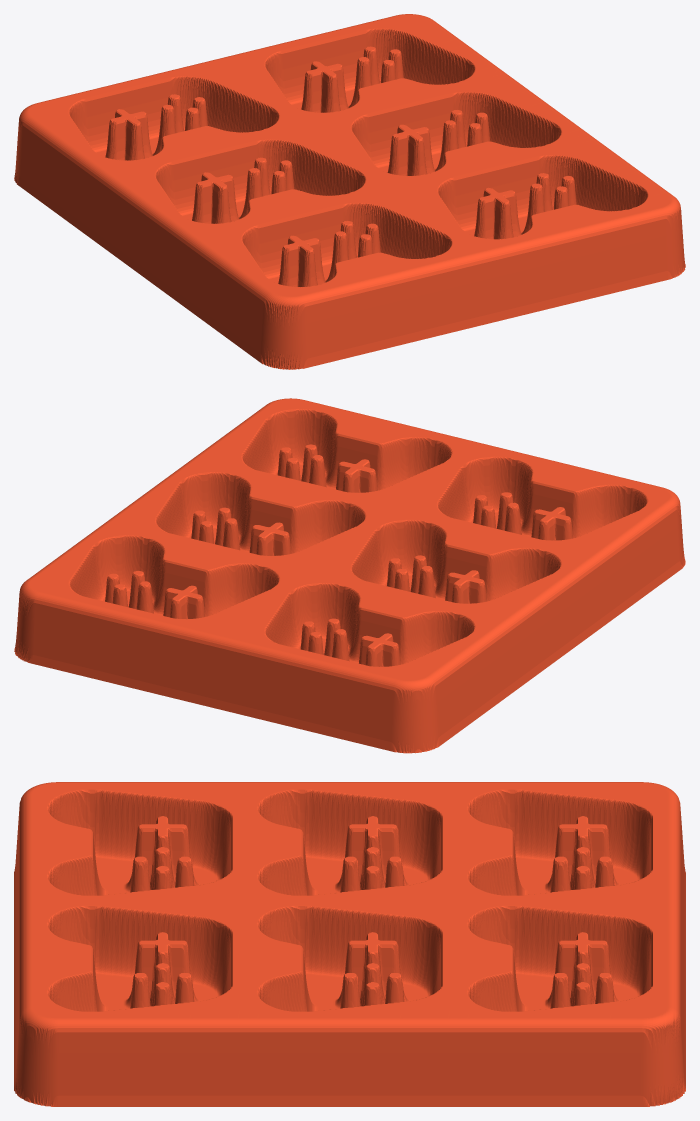
Rendered from mold.glb.
The picture shows the model from 3 angles, top to bottom: view 1: azimuth 30°, elevation 25°; view 2: azimuth 150°, elevation 25°; view 3: azimuth 270°, elevation 25°; orthographic projection. The views are drawn at different scales.
Parts seen in each view (by area): view 1: geometry_0; view 2: geometry_0; view 3: geometry_0.
Part boxes in pixels (x1,y1,x2,y2): geometry_0: [14, 14, 685, 369]; geometry_0: [14, 398, 685, 753]; geometry_0: [14, 782, 685, 1106].
Bounding box in the file's own units: 0.1222 × 0.0185 × 0.1389.
